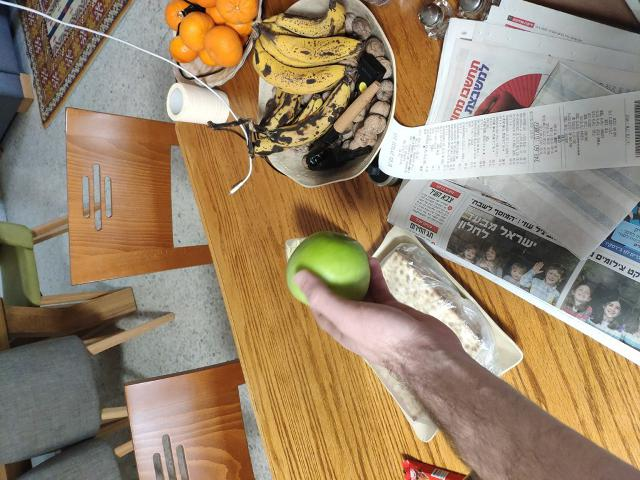apple: (283, 232, 378, 319)
